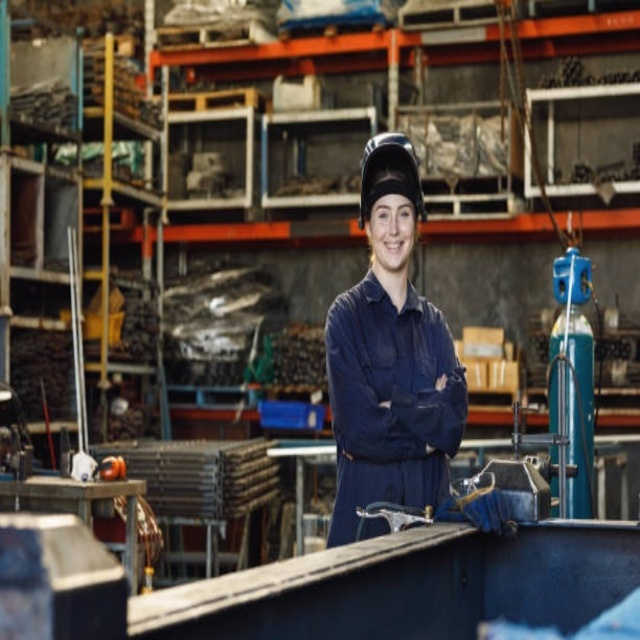Sin_gafas: (372, 209, 415, 231)
Sin_mascara: (380, 234, 407, 265)
